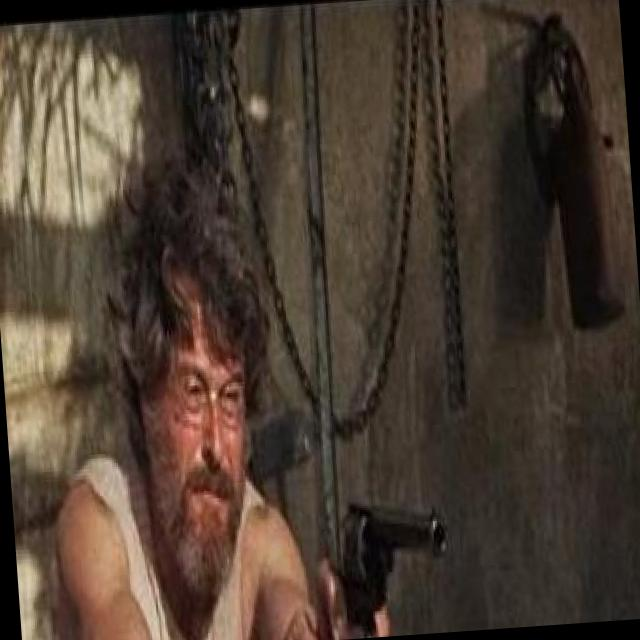Guns: (248, 458, 485, 640)
